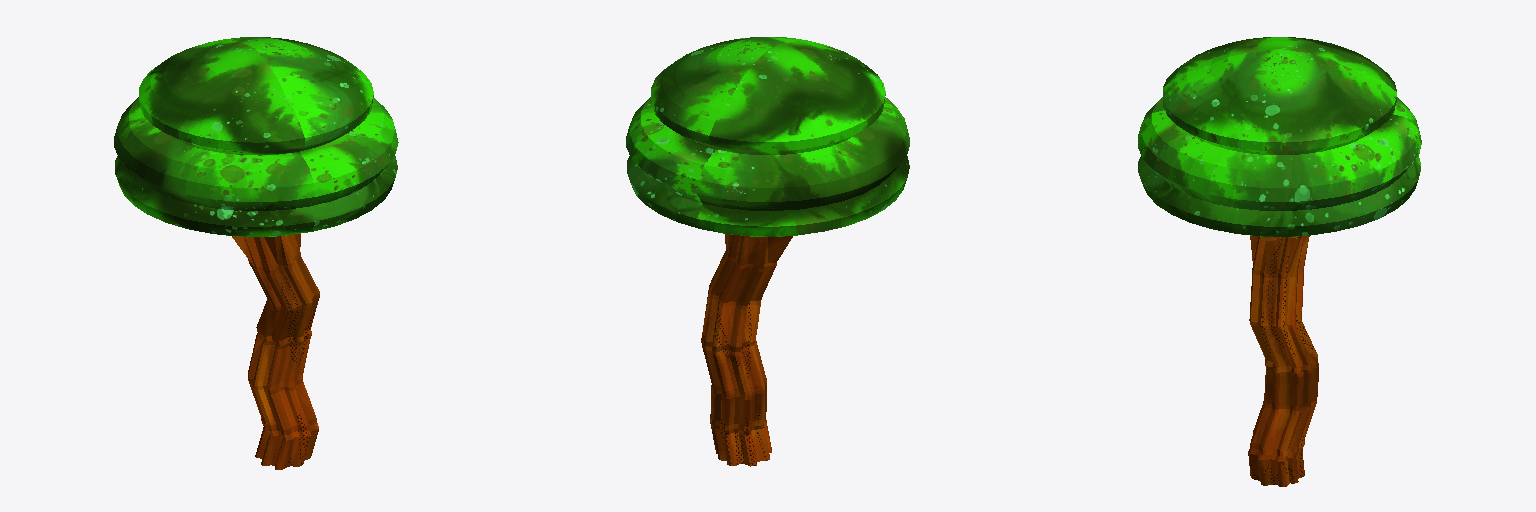
3 renders of one model, left to right at view 1: azimuth 30°, elevation 25°; view 2: azimuth 150°, elevation 25°; view 3: azimuth 270°, elevation 25°, orthographic.
Visible parts, largest first — view 1: Sphere001, Cylinder001; view 2: Sphere001, Cylinder001; view 3: Sphere001, Cylinder001.
Part boxes in pixels (bbox=[...]): Sphere001: bbox=[114, 37, 398, 236]; Cylinder001: bbox=[232, 234, 319, 469]; Sphere001: bbox=[626, 37, 909, 236]; Cylinder001: bbox=[701, 234, 792, 466]; Sphere001: bbox=[1138, 37, 1421, 236]; Cylinder001: bbox=[1248, 234, 1318, 486].
Bounding box in the file's own units: 973 × 1562 × 972.
Materials: 2 (2 with a texture image).